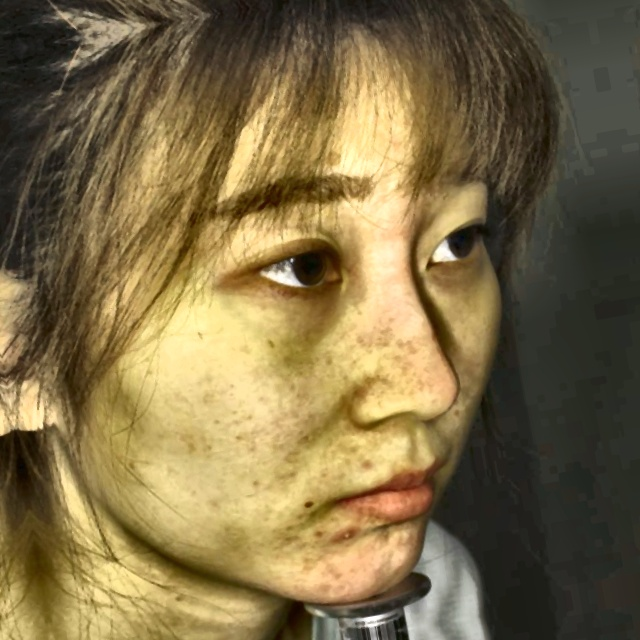comedone: (324, 519, 360, 552)
